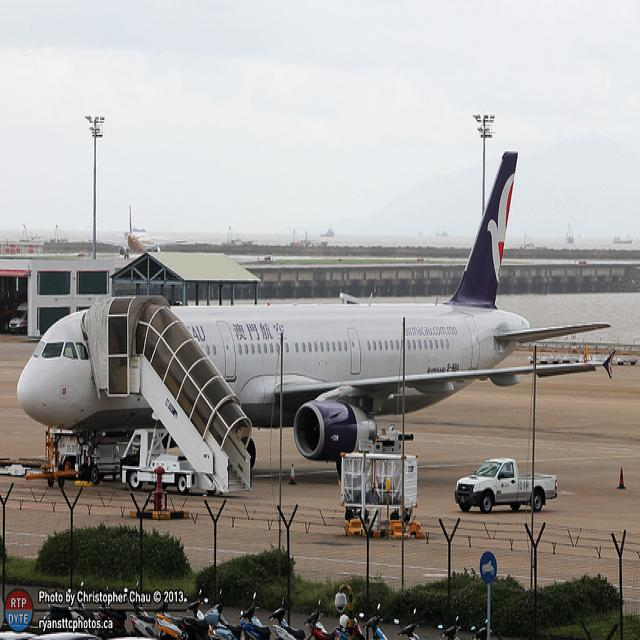motor: (207, 591, 269, 639), (156, 589, 205, 640), (303, 598, 350, 640), (268, 594, 307, 640), (179, 605, 220, 640), (393, 608, 424, 640), (338, 611, 364, 640), (437, 614, 461, 640), (239, 625, 272, 640)
